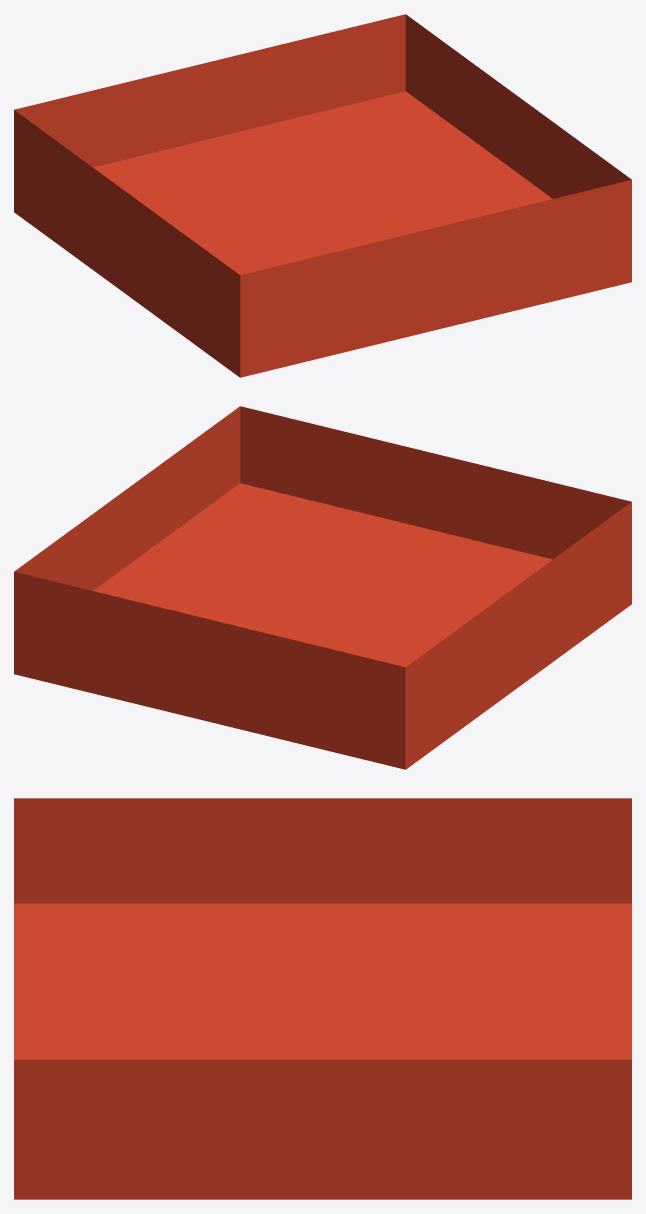
3 renders of one model, top to bottom at view 1: azimuth 30°, elevation 25°; view 2: azimuth 150°, elevation 25°; view 3: azimuth 270°, elevation 25°, orthographic. The views are drawn at different scales.
Parts seen in each view (by area): view 1: Cube; view 2: Cube; view 3: Cube.
Boxes of the visible parts, <box> form: Cube: <box>14,14,631,377</box>; Cube: <box>14,406,631,769</box>; Cube: <box>14,798,631,1199</box>.
Bounding box in the file's own units: 0.4 × 0.4 × 0.1.
